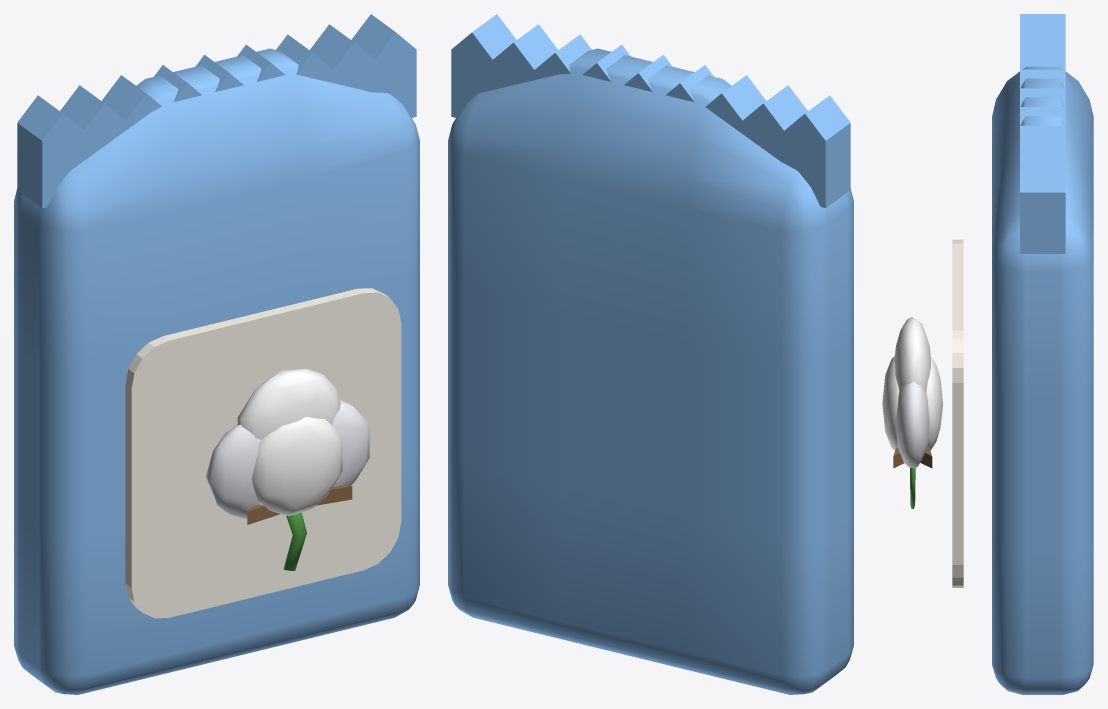
Rendered from semente-flor-de-algodao.glb.
3 views of the same model, side by side, from view 1: azimuth 30°, elevation 25°; view 2: azimuth 150°, elevation 25°; view 3: azimuth 270°, elevation 25° (orthographic). The views are drawn at different scales.
Visible parts, largest first — view 1: semente-flor-de-algodao; view 2: semente-flor-de-algodao; view 3: semente-flor-de-algodao.
Boxes of the visible parts, box(x1,y1,x2,y2) form: semente-flor-de-algodao: box(14, 14, 419, 694); semente-flor-de-algodao: box(448, 14, 853, 694); semente-flor-de-algodao: box(882, 14, 1093, 694).
Size of the model in its own units: 0.14 by 0.208 by 0.0748.
